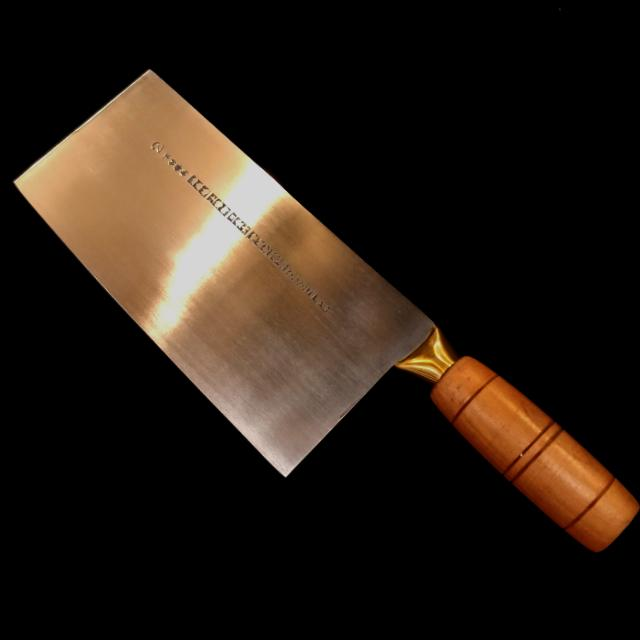cleaver: (2, 29, 640, 594)
